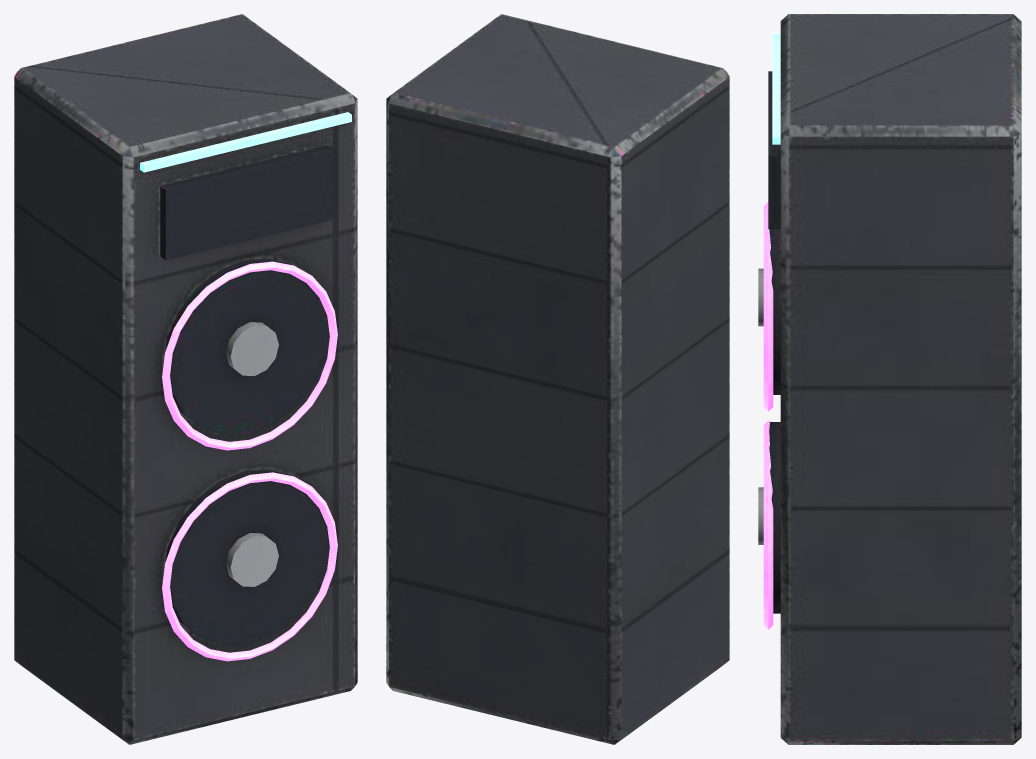
File: caixa_som.glb
3 views of the same model, side by side, from view 1: azimuth 30°, elevation 25°; view 2: azimuth 150°, elevation 25°; view 3: azimuth 270°, elevation 25° (orthographic). The views are drawn at different scales.
Visible parts, largest first — view 1: caixa_som; view 2: caixa_som; view 3: caixa_som.
Part boxes in pixels (left/top/right/bottom): caixa_som: left=14, top=14, right=357, bottom=744; caixa_som: left=386, top=14, right=729, bottom=744; caixa_som: left=758, top=14, right=1021, bottom=744.
Bounding box in the file's own units: 0.7 × 1.7 × 0.655.
Materials: 1 (1 with a texture image).
